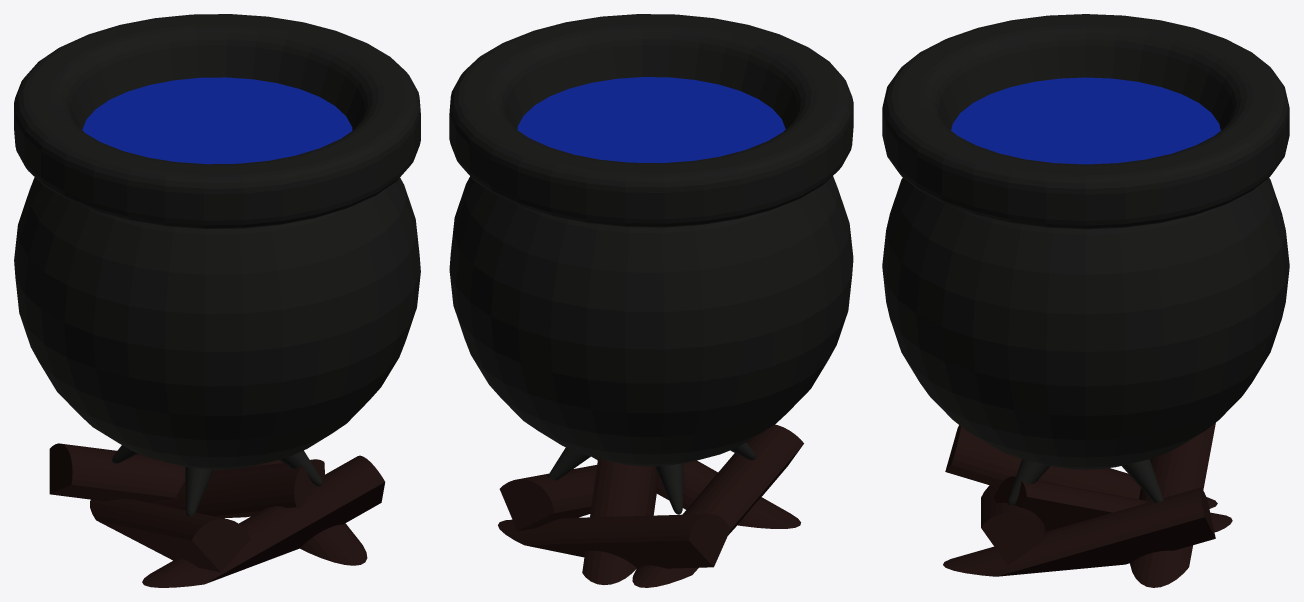
The model's file is cauldren.obj.
The picture shows the model from 3 angles, left to right: view 1: azimuth 30°, elevation 25°; view 2: azimuth 150°, elevation 25°; view 3: azimuth 270°, elevation 25°; orthographic projection.
Parts seen in each view (by area): view 1: caldron_Sphere, FireWood_Cylinder.004; view 2: caldron_Sphere, FireWood_Cylinder.004; view 3: caldron_Sphere, FireWood_Cylinder.004.
Boxes of the visible parts, <box> form: caldron_Sphere: <box>14,14,420,516</box>; FireWood_Cylinder.004: <box>49,443,385,587</box>; caldron_Sphere: <box>449,14,853,514</box>; FireWood_Cylinder.004: <box>498,424,803,587</box>; caldron_Sphere: <box>882,14,1289,505</box>; FireWood_Cylinder.004: <box>943,423,1232,587</box>.
Bounding box in the file's own units: 1.4 × 1.65 × 1.4.
